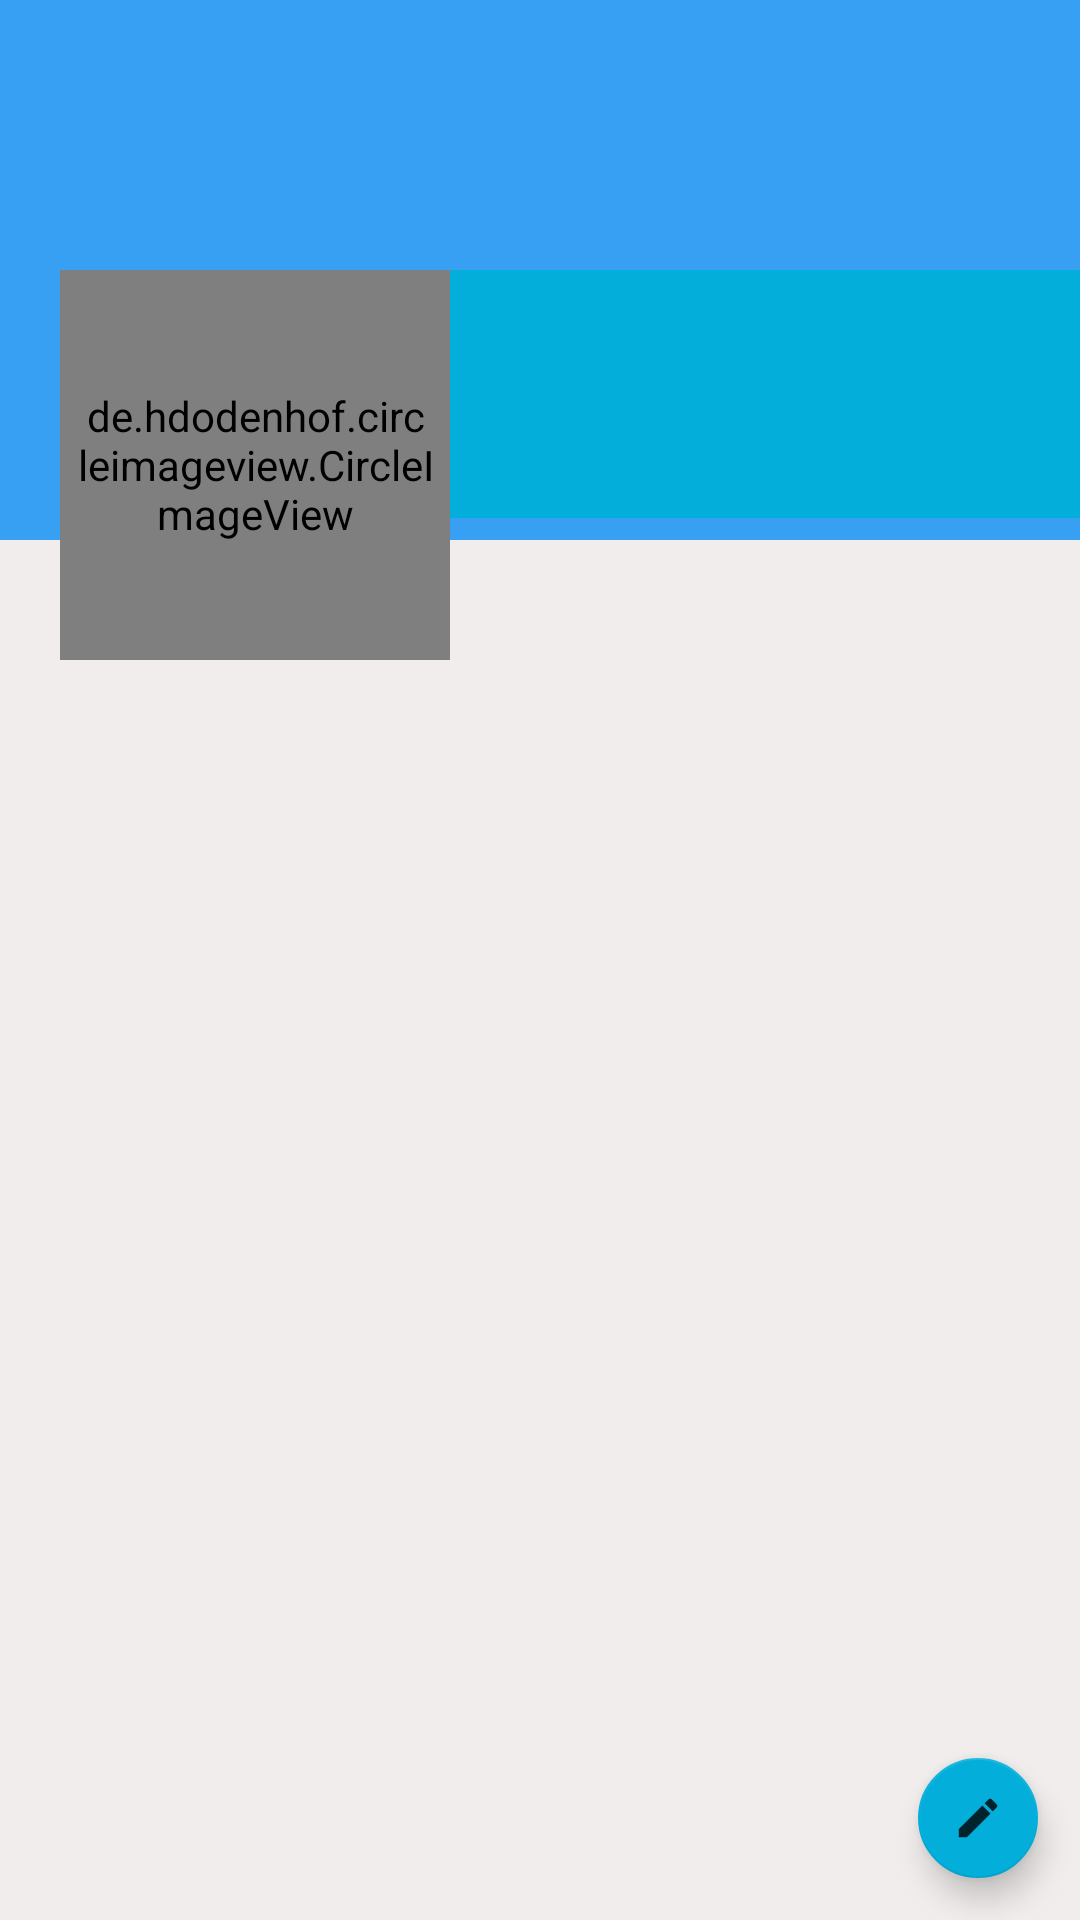

Screen size 1080w x 1920h. Icon name, then its box in pixels as rect(x1, y1, x2, y2):
edit: rect(918, 1758, 1041, 1890)
